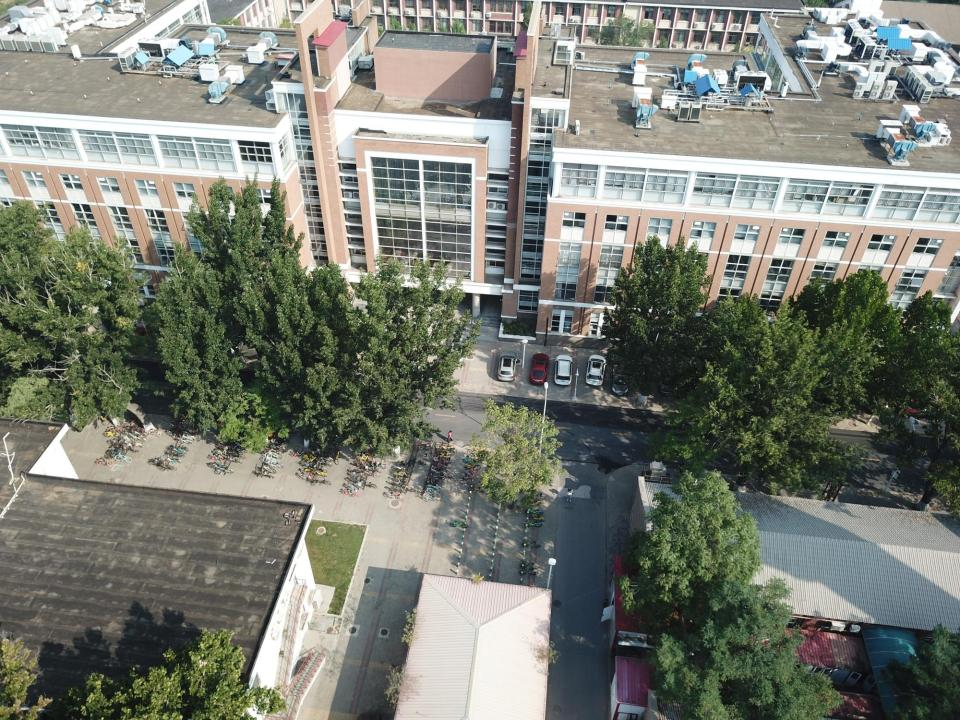car: (611, 362, 629, 396), (657, 365, 676, 397)
